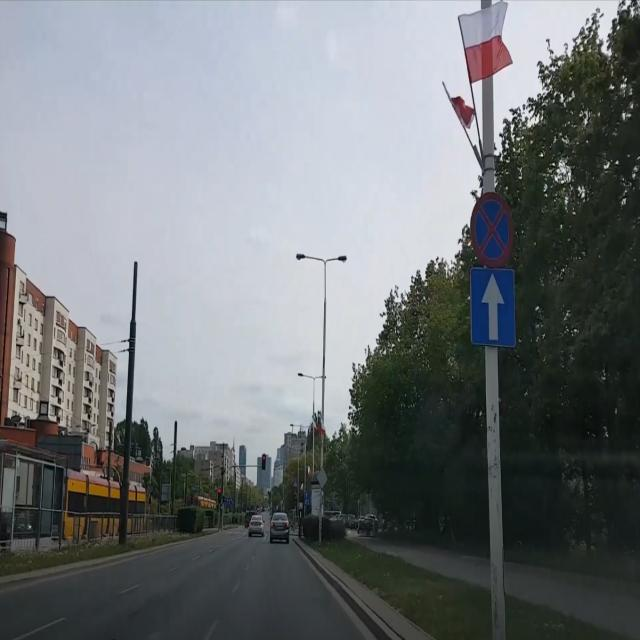Zakaz zatrzymywania sie: (469, 192, 514, 264)
